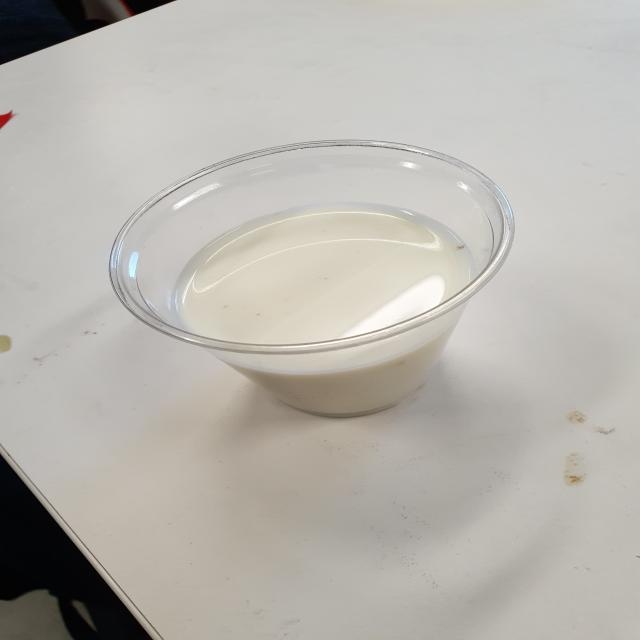Milk: (94, 121, 528, 457)
